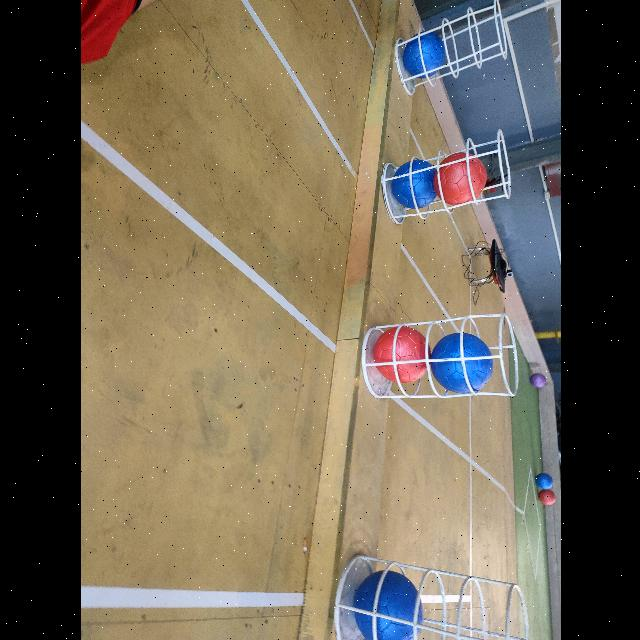B: (352, 568, 422, 640), (428, 333, 492, 393), (391, 159, 437, 209), (403, 30, 443, 76), (534, 472, 552, 490)
R: (372, 326, 428, 382), (434, 152, 488, 206), (538, 490, 554, 504)
